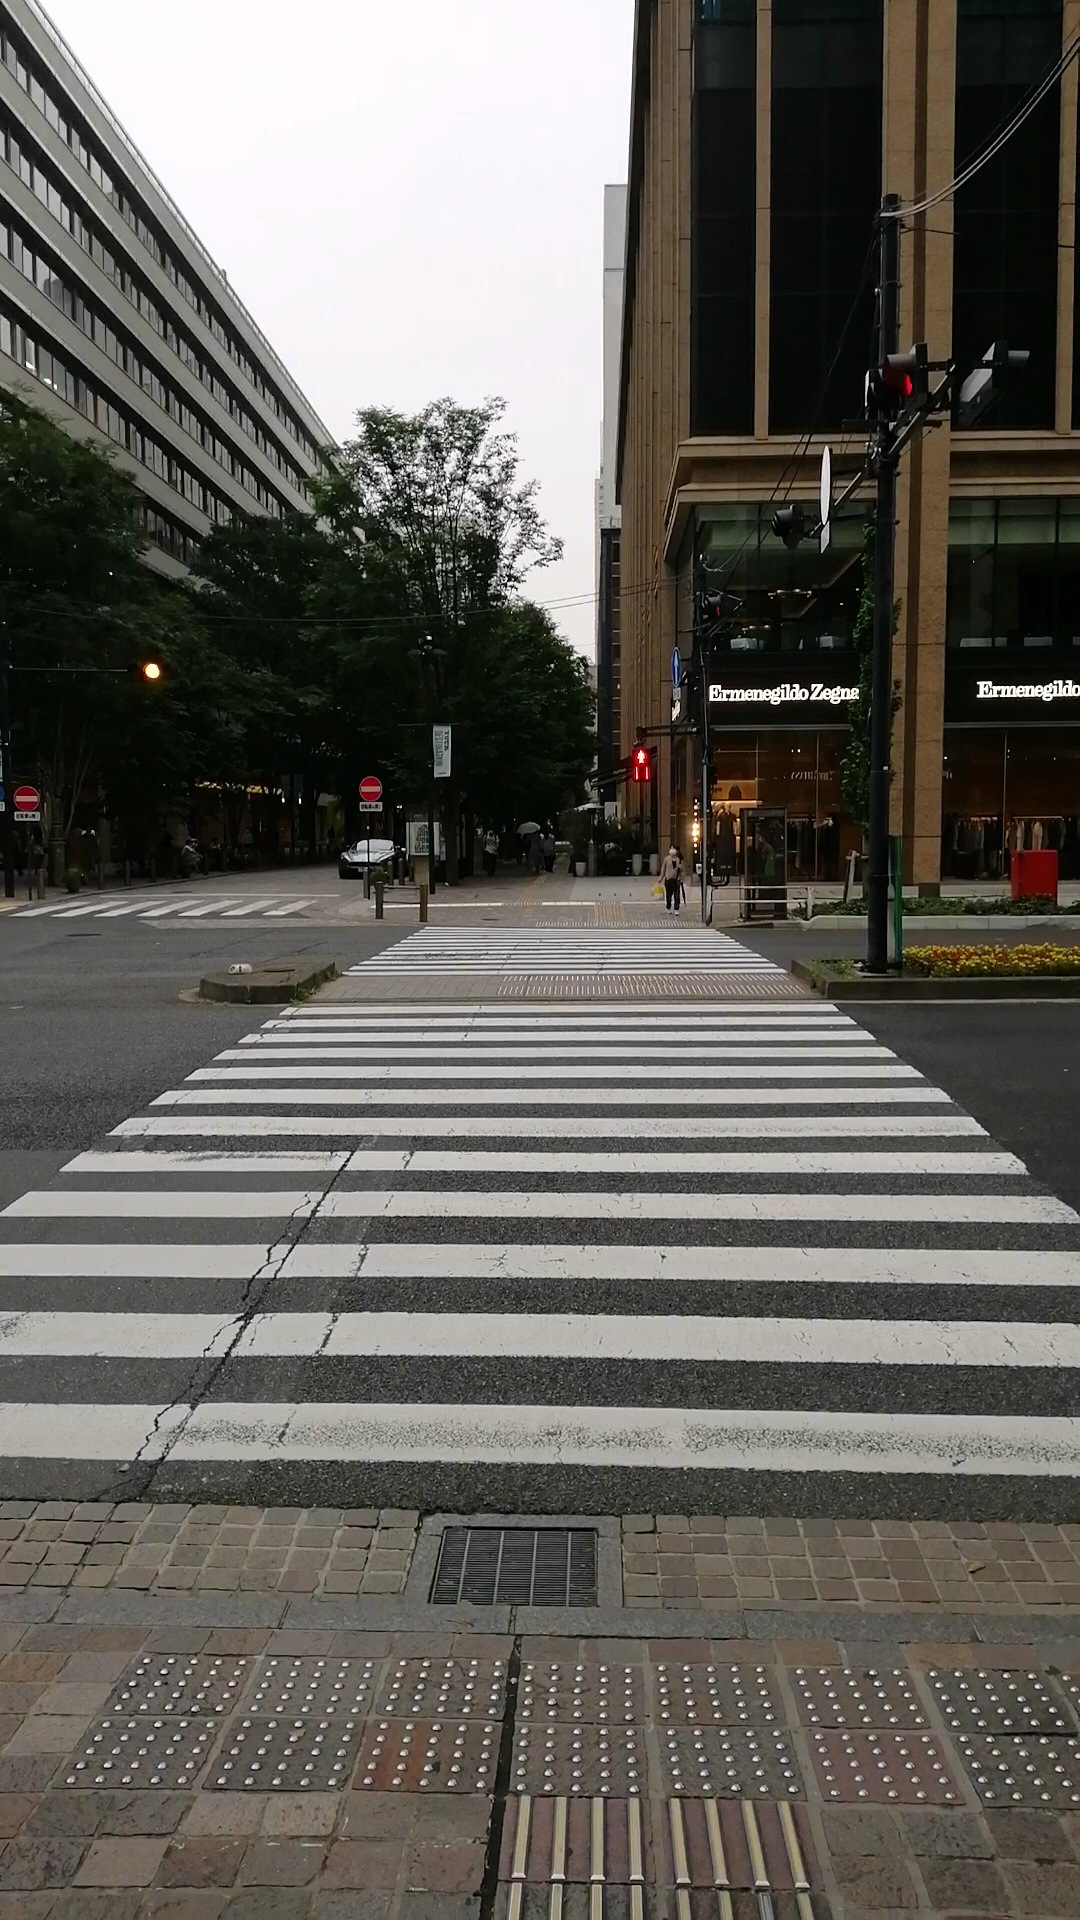red: (630, 744, 651, 785)
